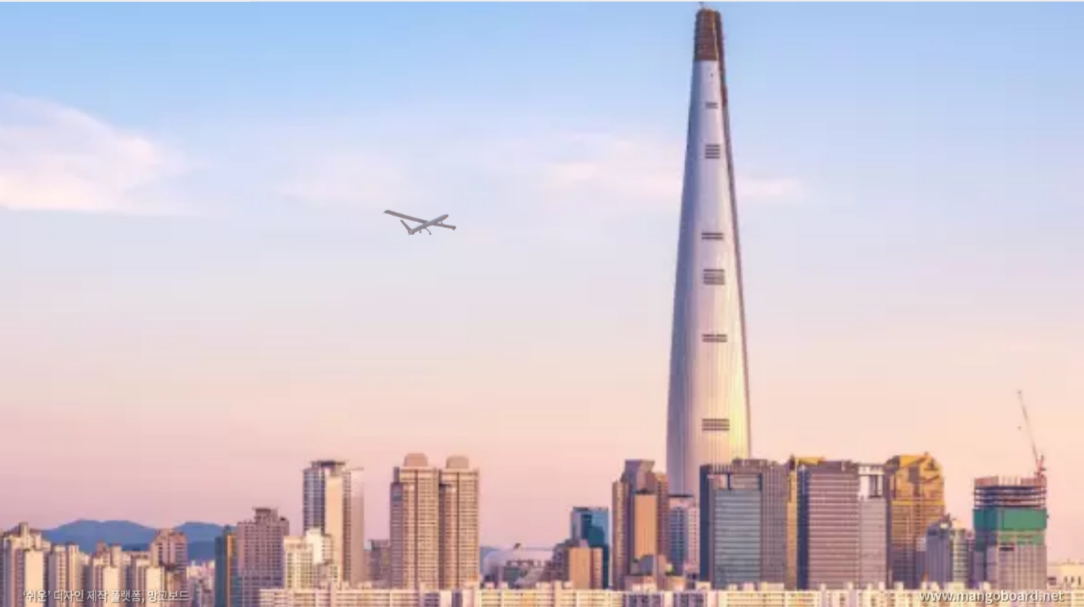military drone: (382, 209, 456, 235)
